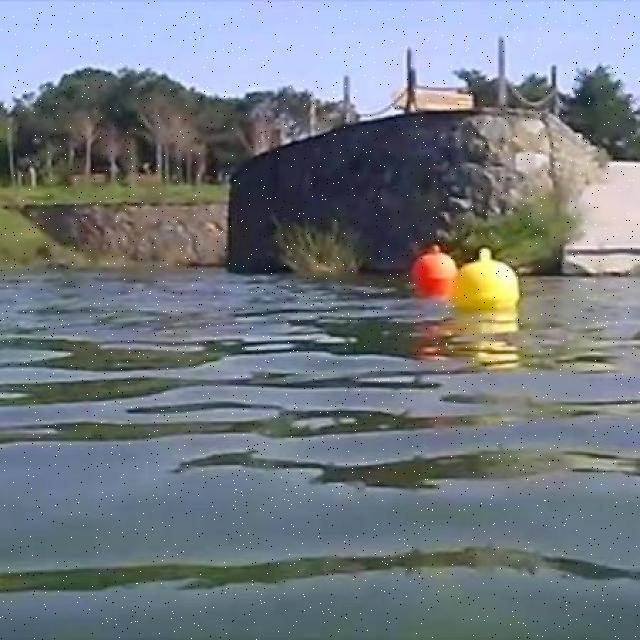buoy: (452, 245, 524, 315), (411, 247, 451, 298)
